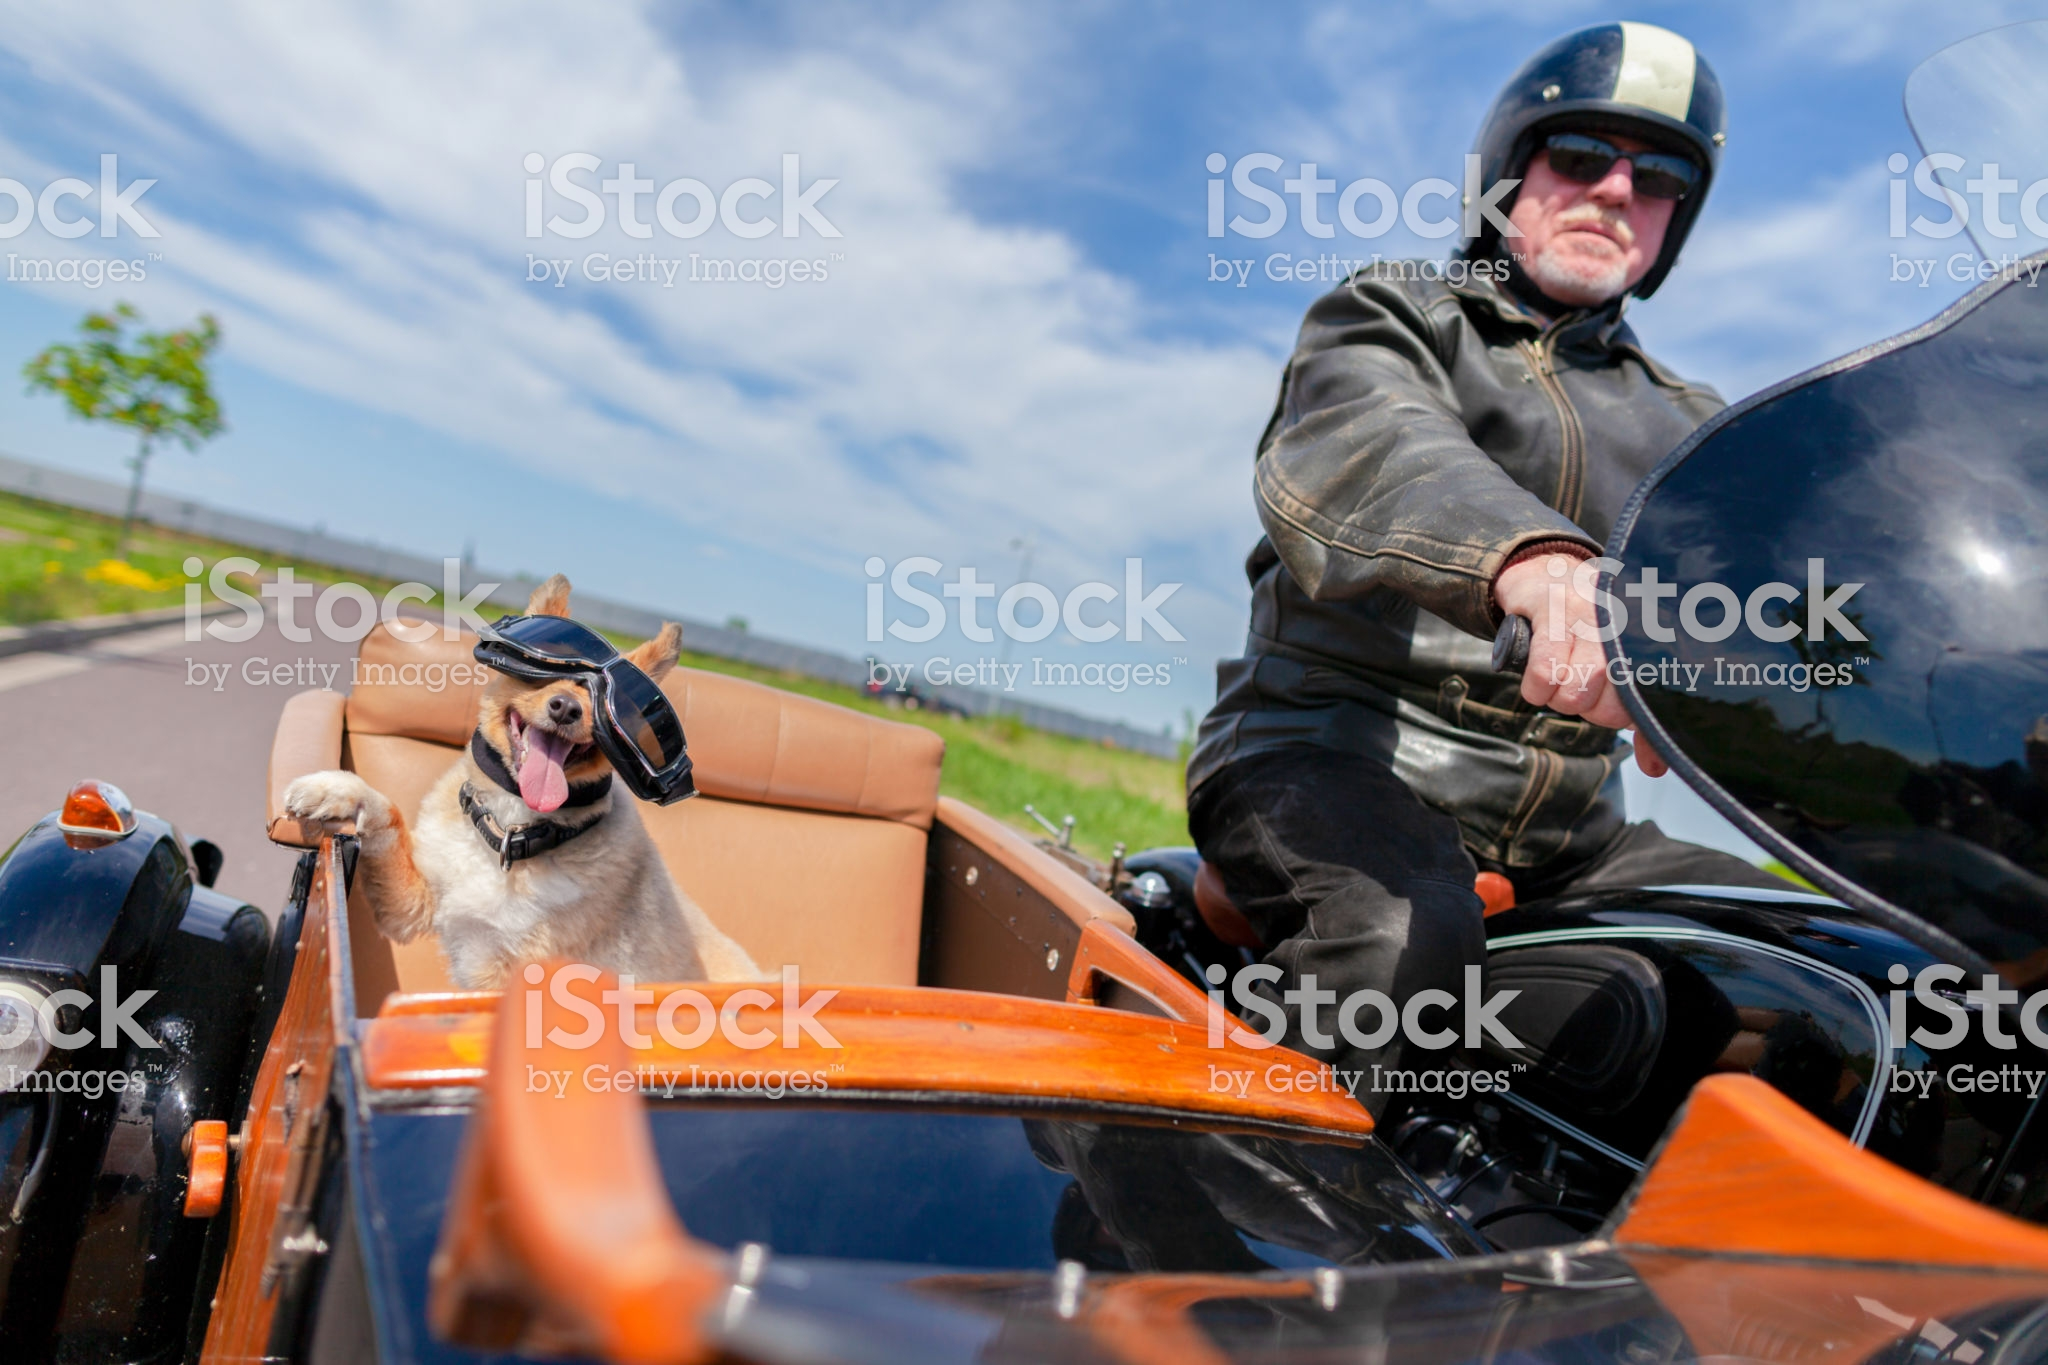helmet: (1465, 23, 1766, 178)
